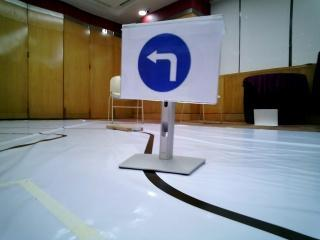left: (132, 29, 205, 95)
